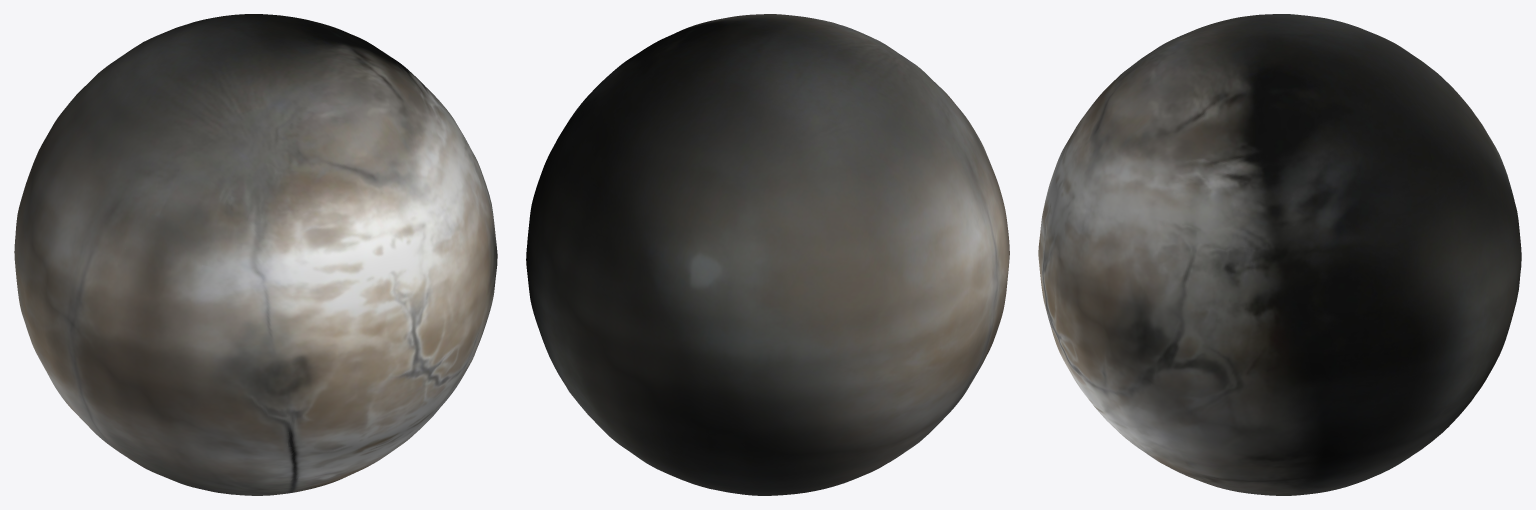
Rendered from kelper_452b.glb.
3 views of the same model, side by side, from view 1: azimuth 30°, elevation 25°; view 2: azimuth 150°, elevation 25°; view 3: azimuth 270°, elevation 25° (orthographic).
Size of the model in its own units: 2 by 1.99 by 1.99.
1 material, 1 textured.
